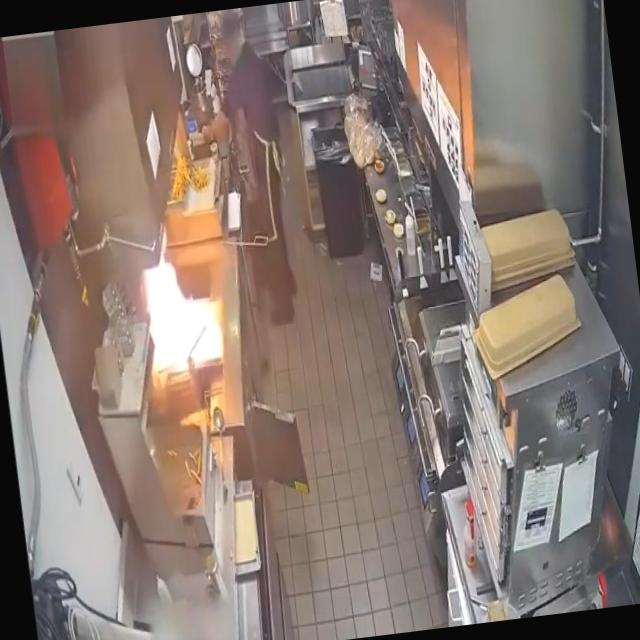fire: (126, 223, 233, 406)
